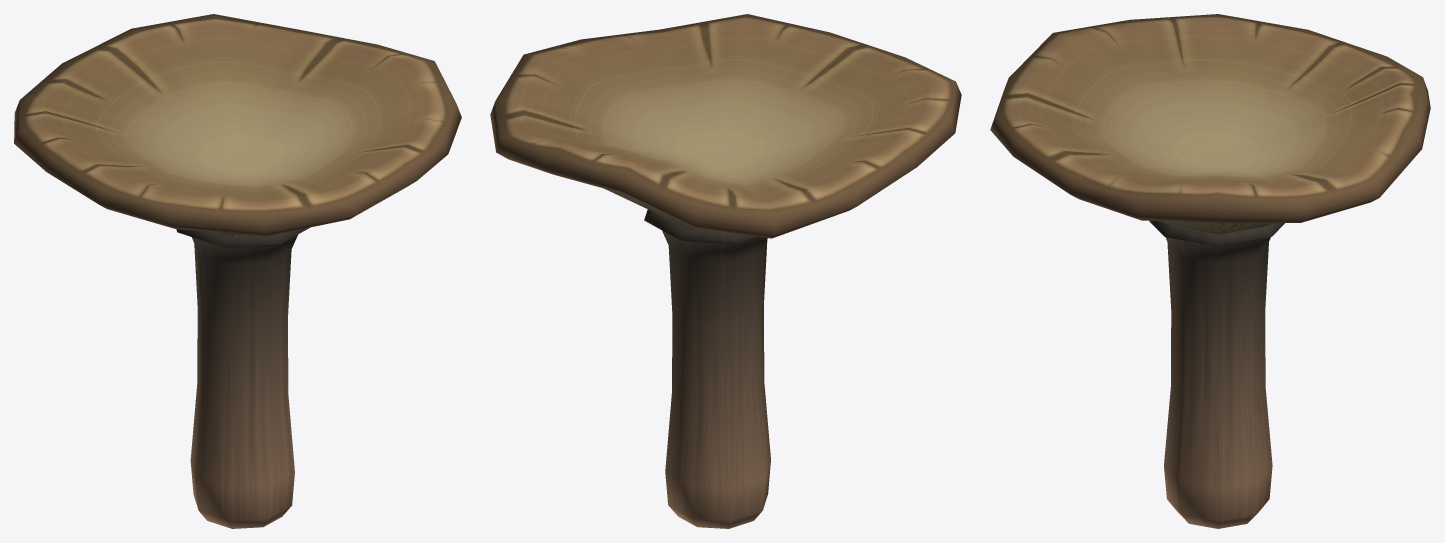
The model's file is mushroom3.obj.
3 views of the same model, side by side, from view 1: azimuth 30°, elevation 25°; view 2: azimuth 150°, elevation 25°; view 3: azimuth 270°, elevation 25° (orthographic).
Parts seen in each view (by area): view 1: mushroom3_Mushroom_red; view 2: mushroom3_Mushroom_red; view 3: mushroom3_Mushroom_red.
Part boxes in pixels (x1,y1,x2,y2): mushroom3_Mushroom_red: (14, 14, 461, 528); mushroom3_Mushroom_red: (490, 14, 961, 528); mushroom3_Mushroom_red: (990, 14, 1430, 528).
Bounding box in the file's own units: 0.5471 × 0.5674 × 0.5285.
